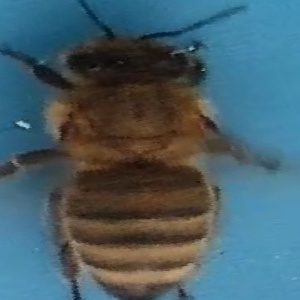bee: (7, 10, 285, 300)
